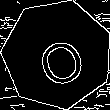O_NW: (27, 23, 87, 86)
